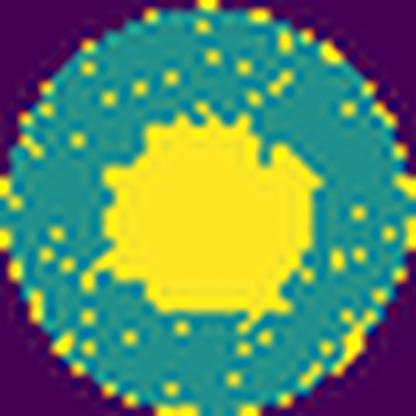Center: (99, 115, 323, 323)
